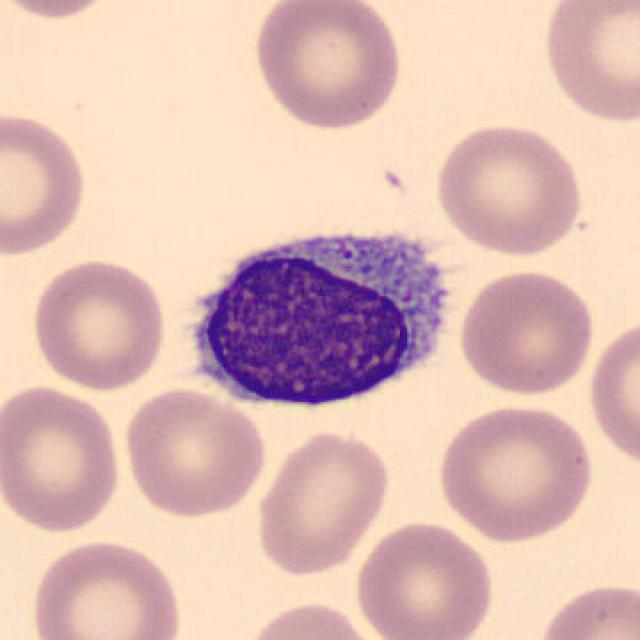Lymphocyte: (168, 221, 457, 412)
RBC: (434, 400, 597, 545), (430, 116, 587, 260), (251, 425, 393, 578), (249, 0, 405, 132), (119, 384, 270, 520), (26, 256, 170, 393), (0, 381, 126, 536), (455, 266, 597, 398), (352, 516, 498, 640), (25, 534, 185, 640), (0, 108, 91, 259), (537, 0, 638, 127), (585, 312, 638, 471), (532, 578, 638, 640), (240, 597, 384, 640), (0, 0, 124, 23)
